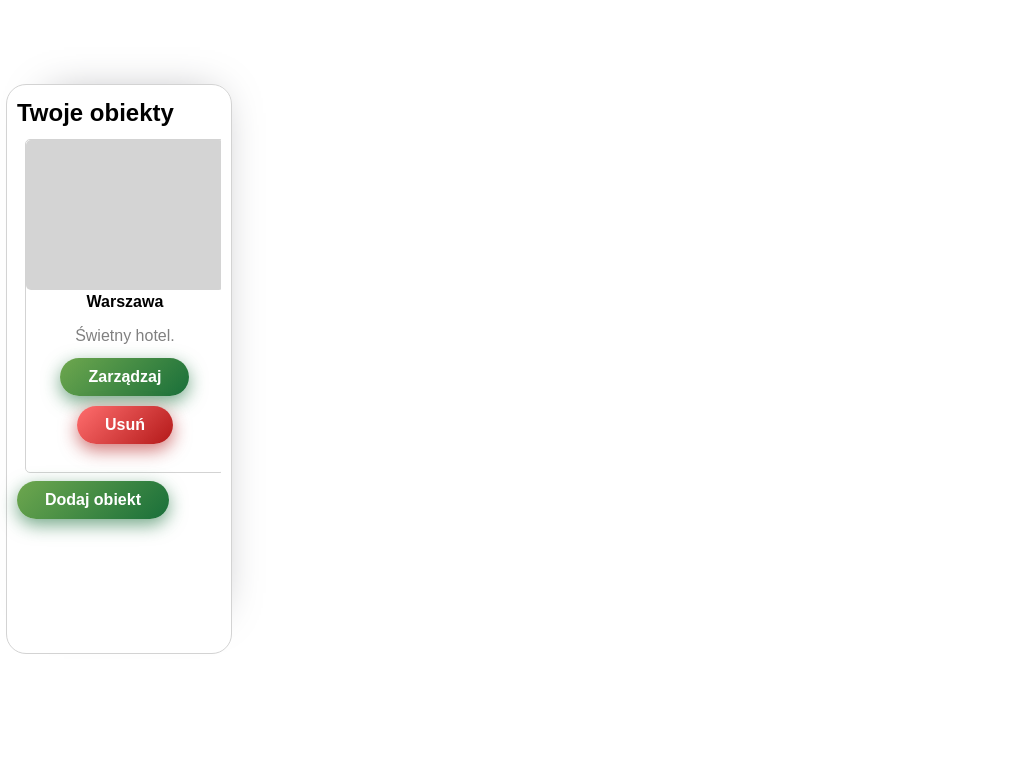
Test: ReservationPanel › closes confirm modal when anuluj clicked
Click the button "Usuń".
click(125, 425)  # box [77,406,173,444]
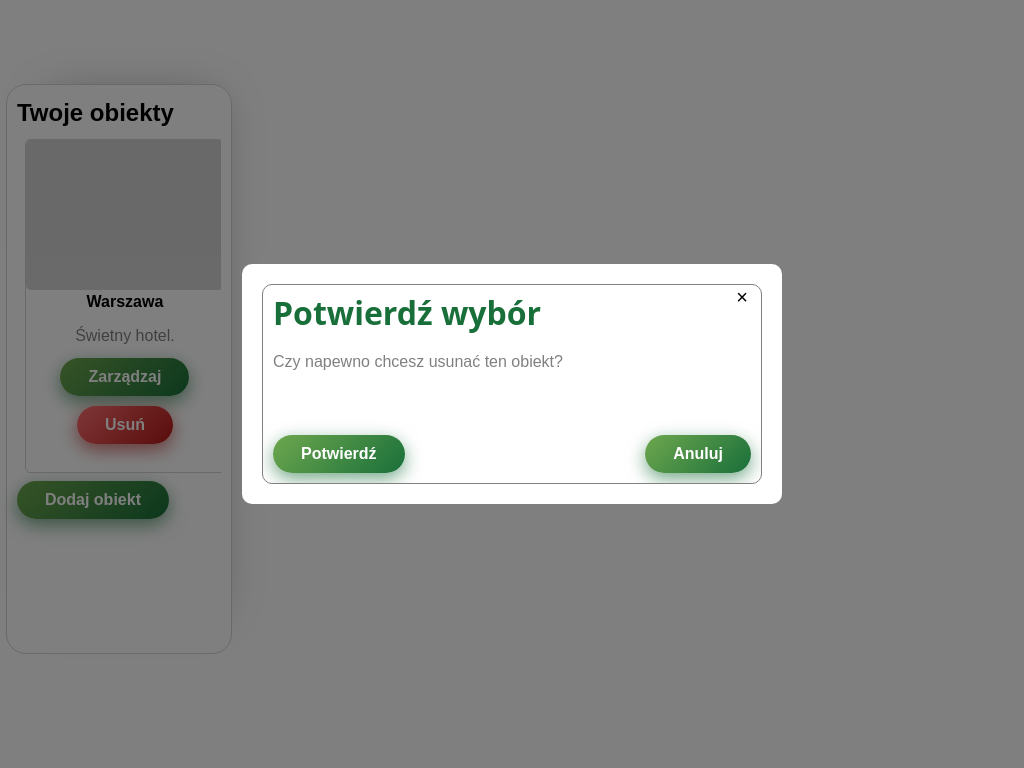
Click the button "Anuluj".
click(698, 454)  # box [645,435,751,473]
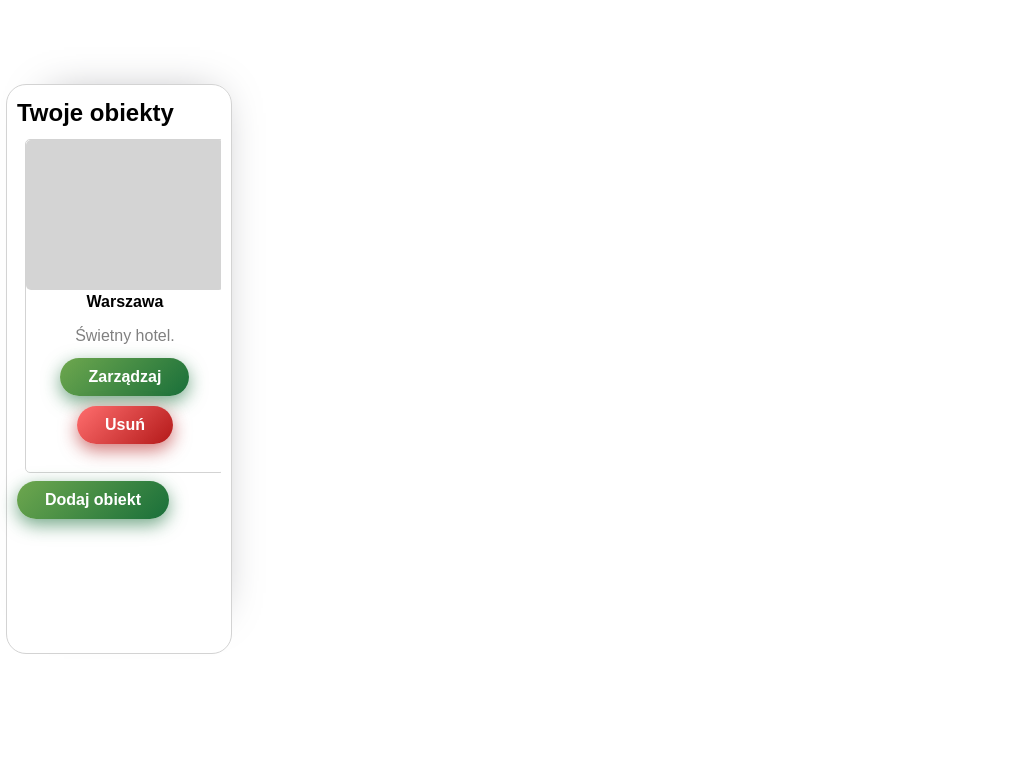
Now the text "Czy napewno chcesz usunać ten obiekt?" is gone
